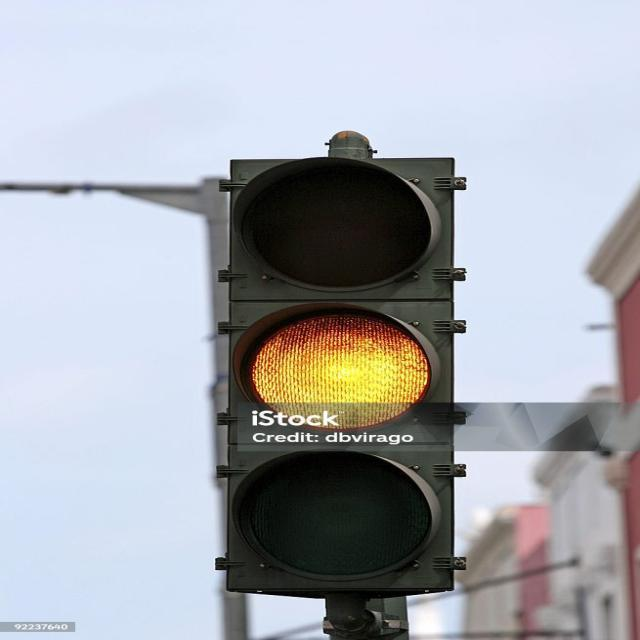yellow_light: (216, 131, 465, 599)
